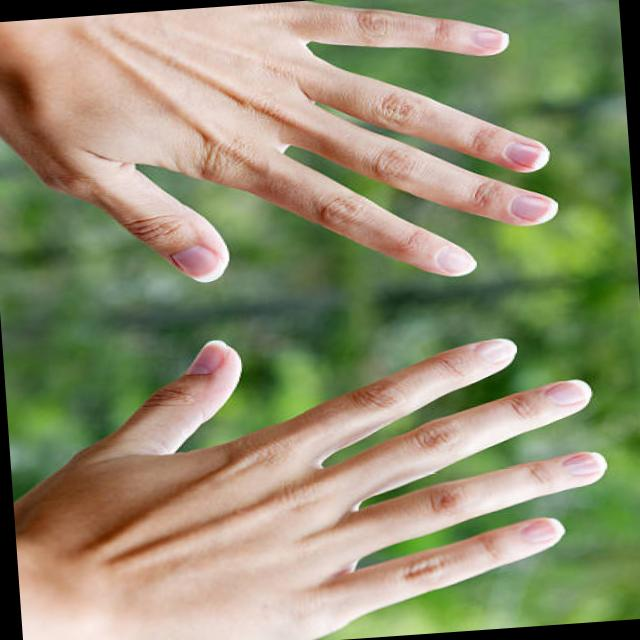Nail: (168, 245, 227, 282), (184, 340, 227, 375), (510, 195, 557, 224), (504, 141, 549, 169), (520, 517, 564, 544), (545, 380, 590, 406), (436, 247, 475, 275), (563, 453, 606, 476), (474, 339, 513, 363), (470, 30, 504, 48)
